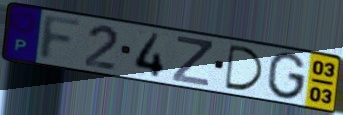2: (83, 23, 121, 73)
4: (132, 31, 167, 80)
D: (223, 43, 266, 93)
F: (36, 13, 86, 63)
G: (265, 51, 309, 102)
Z: (170, 34, 215, 88)
